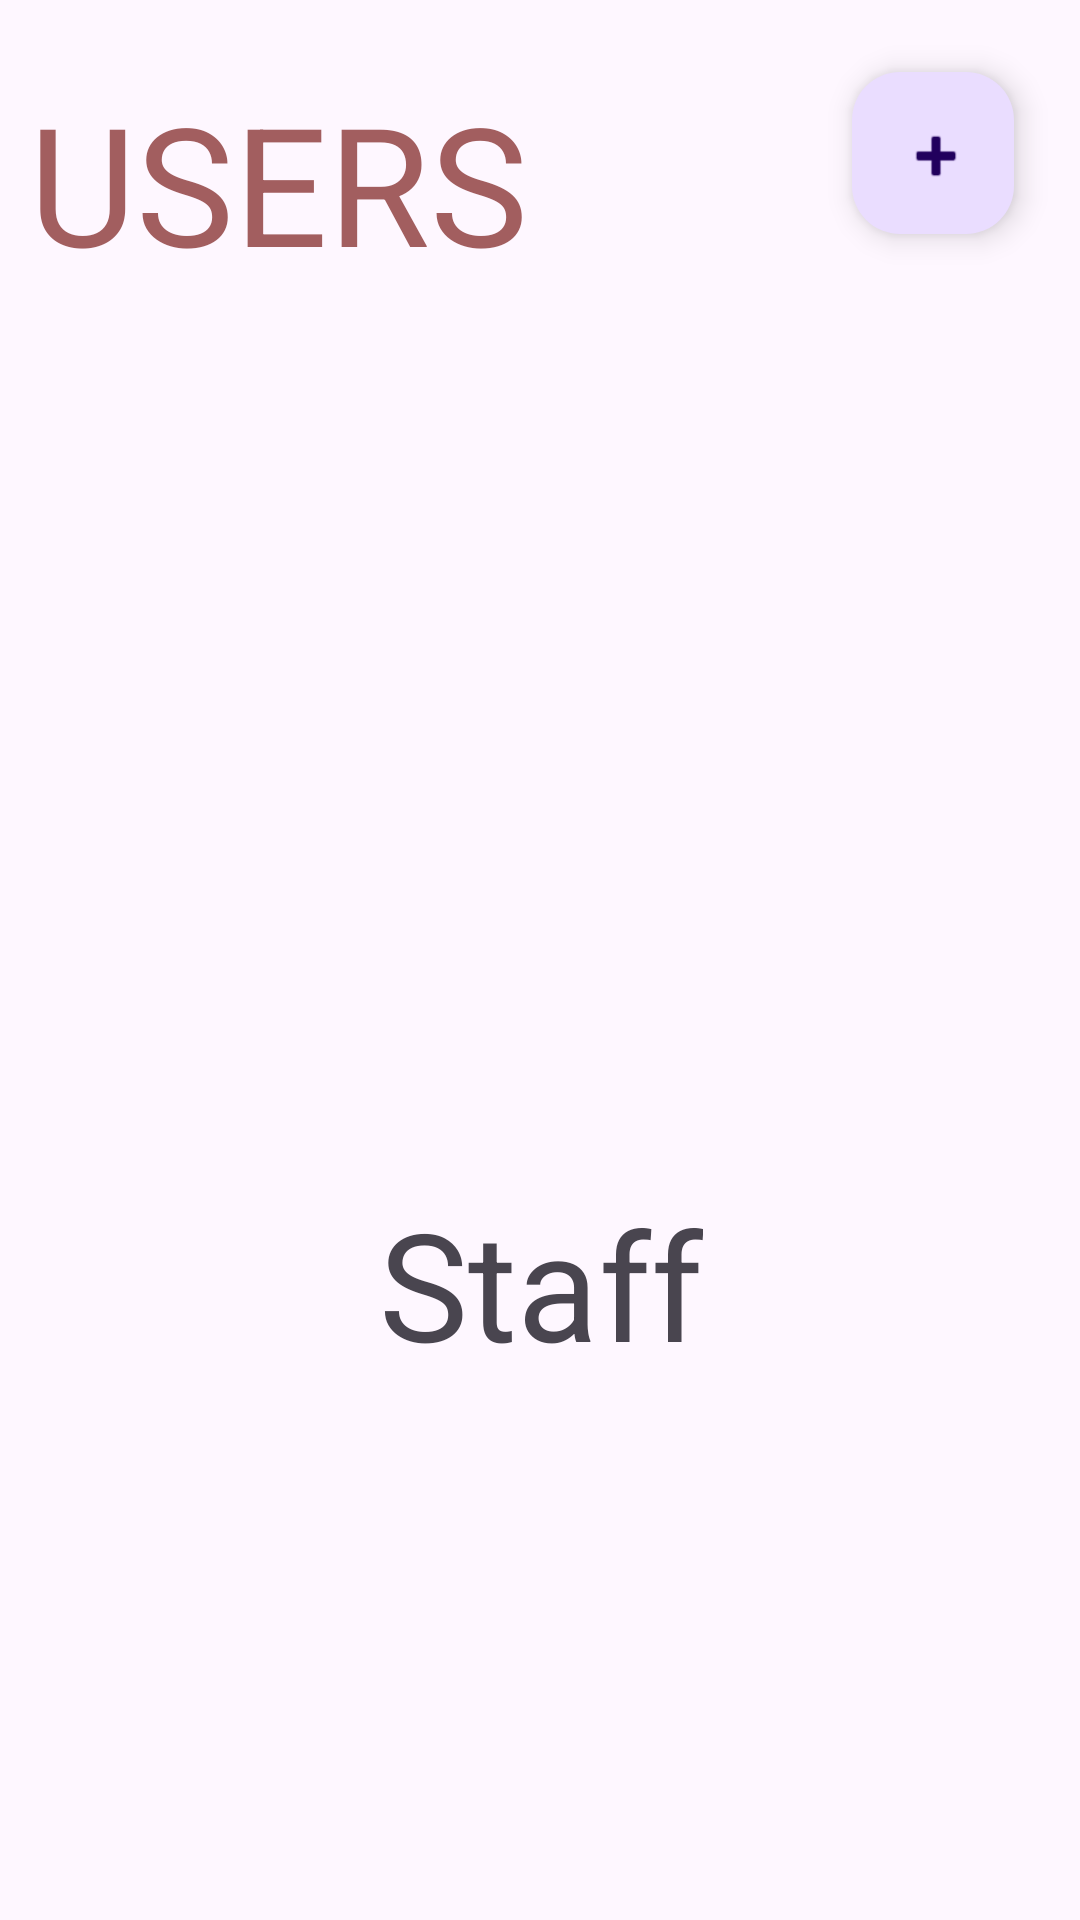

Where icons sit on this 1080 × 1920 app screen, as (x1, y1, x2, y2):
add: (852, 72, 1014, 234)
